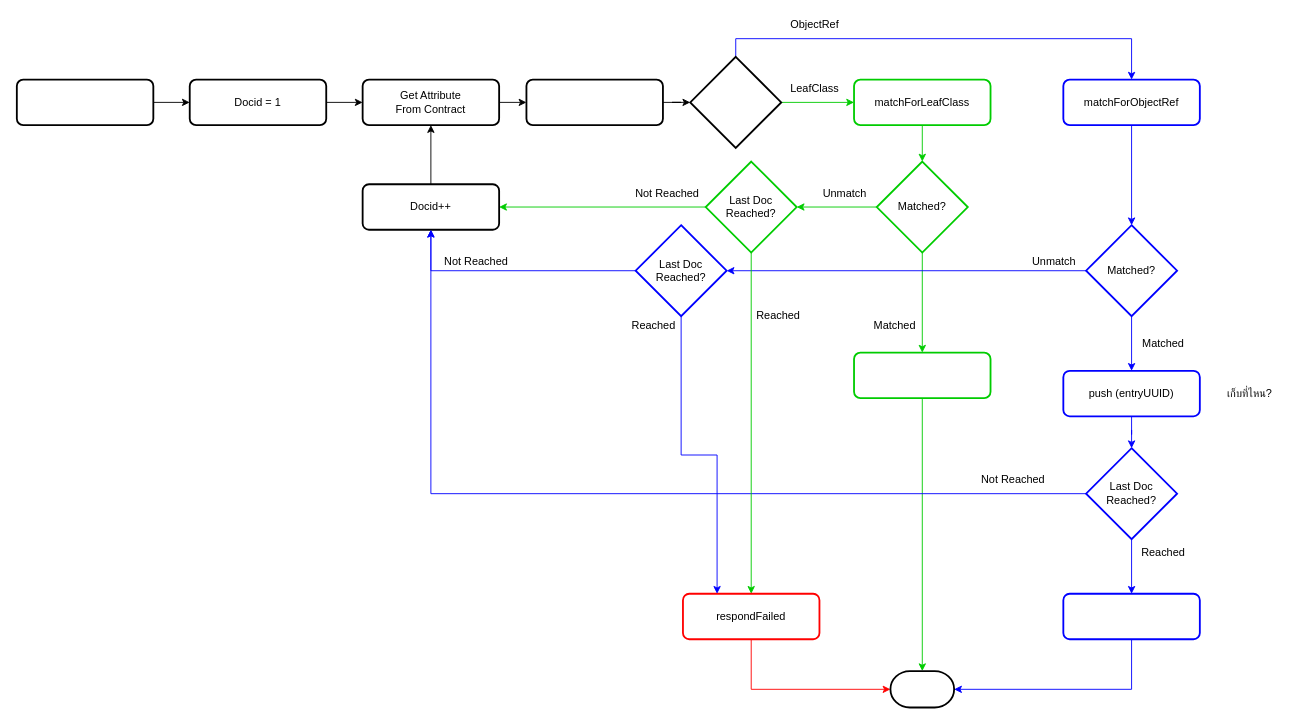
This 1297x723 diagram has some shape labels left out. Each missing label, with the box of its shape:
End (Void): (889, 670, 955, 708)
invokeContract: (15, 78, 154, 126)
Last Doc Index: (525, 78, 663, 126)
matchMaker: (689, 56, 782, 148)
respondLeafClass: (853, 351, 991, 399)
respondObjectRef: (1062, 592, 1200, 640)
